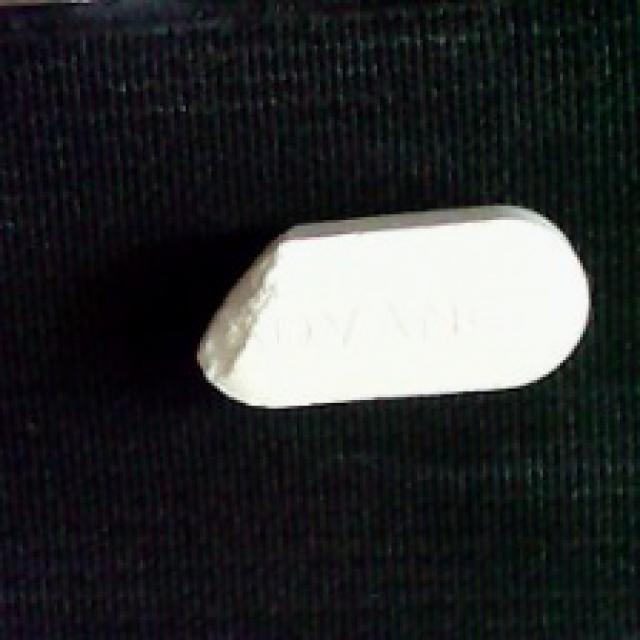defected: (195, 208, 594, 408)
